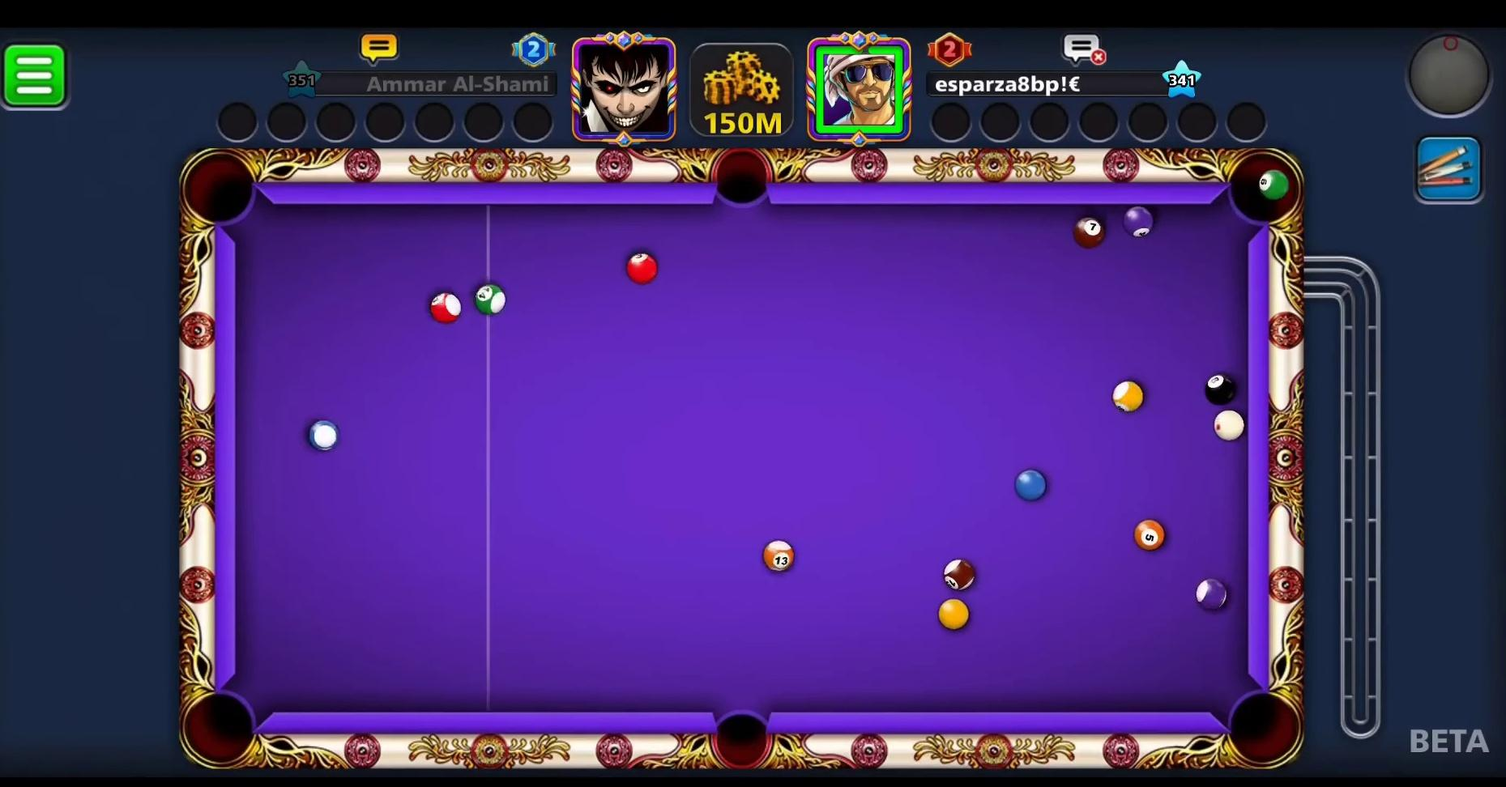Ball: (1252, 163, 1304, 212), (616, 249, 666, 292), (753, 534, 802, 577), (467, 276, 510, 321), (932, 591, 975, 636), (422, 287, 467, 330), (1201, 368, 1244, 410), (1190, 575, 1233, 614), (1068, 214, 1112, 251), (1116, 203, 1158, 239), (1011, 466, 1050, 504), (1132, 516, 1171, 554), (937, 557, 977, 593), (1111, 377, 1148, 415)
Hole: (173, 138, 267, 236), (1216, 680, 1307, 776), (1218, 140, 1304, 235), (698, 141, 786, 223), (180, 687, 264, 772), (702, 692, 783, 778)
Play_Area: (235, 205, 1251, 714)
Spin: (1402, 29, 1503, 126)
White: (302, 417, 349, 456), (1212, 407, 1247, 441)
